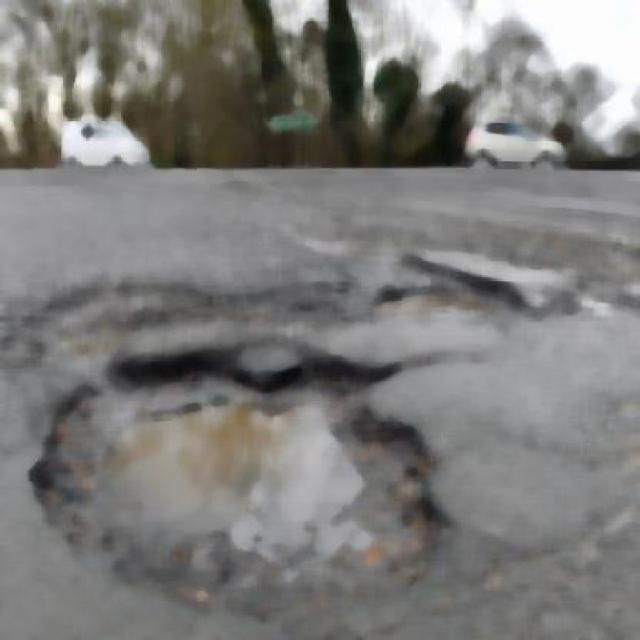Pothole: (22, 345, 455, 627), (17, 248, 535, 375)
